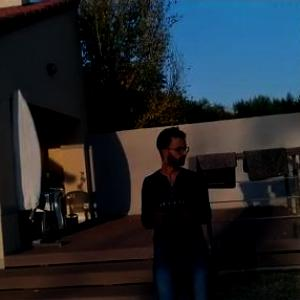follow: (136, 122, 218, 299)
